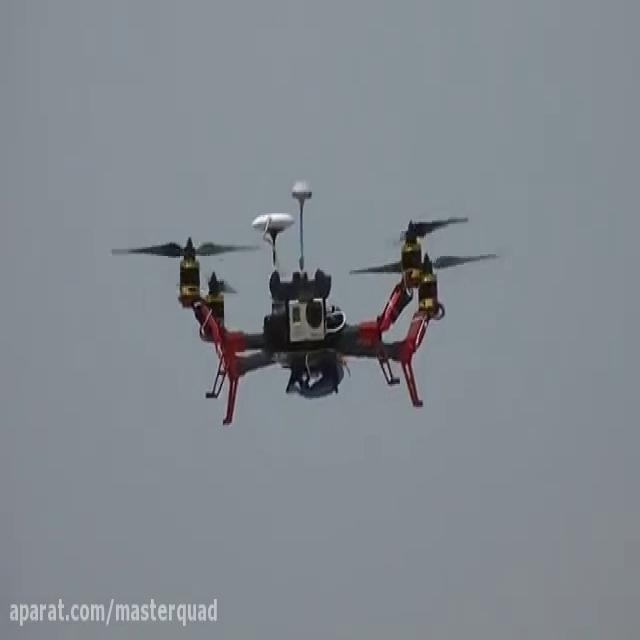drone: (107, 178, 502, 430)
